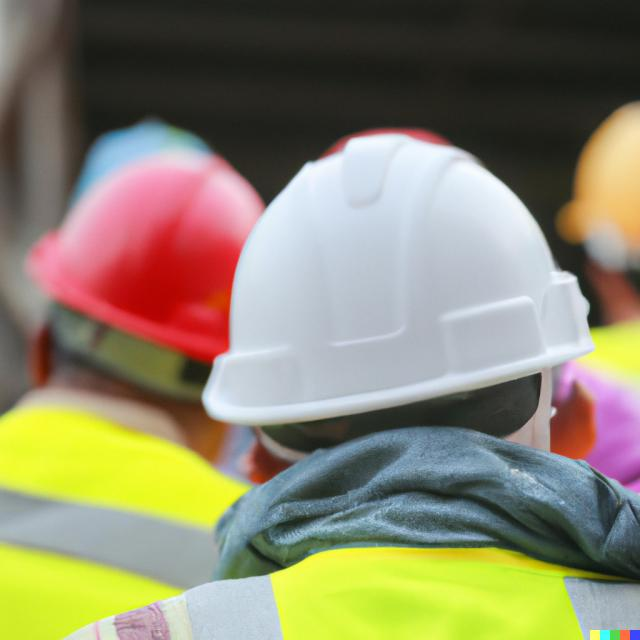Reflective-Jacket: (21, 434, 640, 638)
Safety-Helmet: (201, 118, 589, 438), (557, 87, 640, 252)
